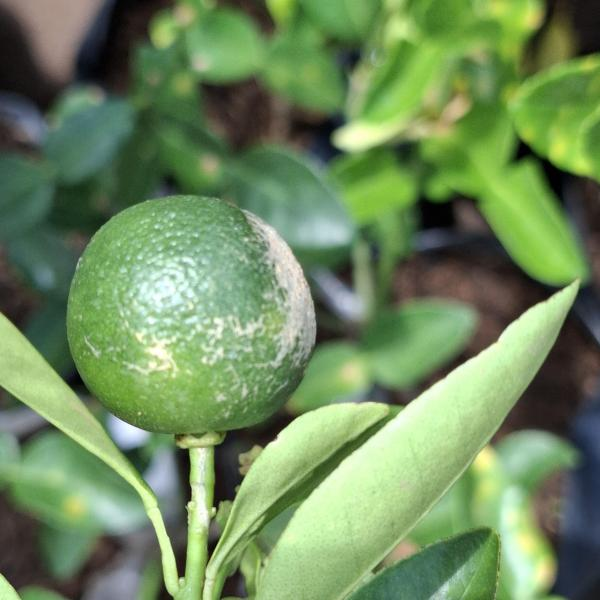Scab: (55, 191, 333, 445)
